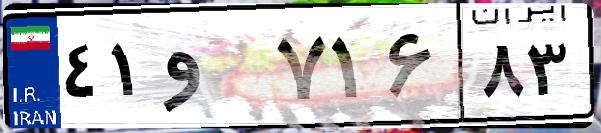1: (330, 28, 385, 110), (110, 28, 158, 98)
3: (525, 38, 570, 115)
4: (57, 26, 110, 100)
6: (385, 28, 445, 110)
7: (270, 28, 330, 110)
8: (475, 38, 525, 113)
و: (158, 20, 270, 120)
